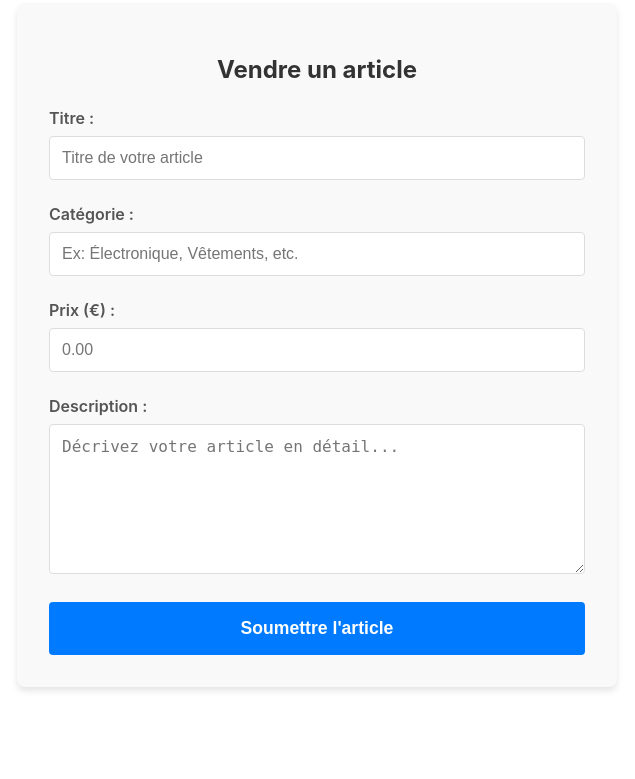
Test: SellForm › should show error when fields are missing
Step 1. Type "Valid Title" into the field labelled "Titre :" → (317,158), box [49,136,585,180]
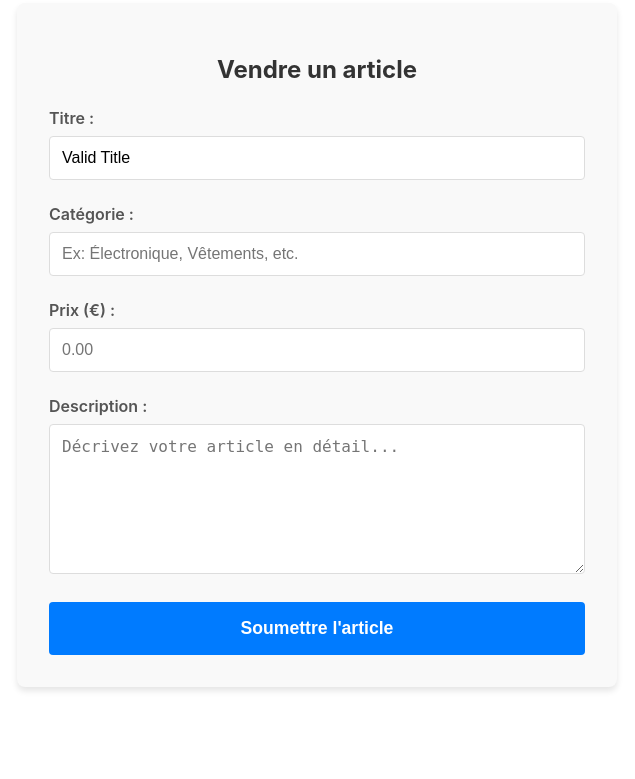
Step 2. Submit the form named "Soumettre l'article"
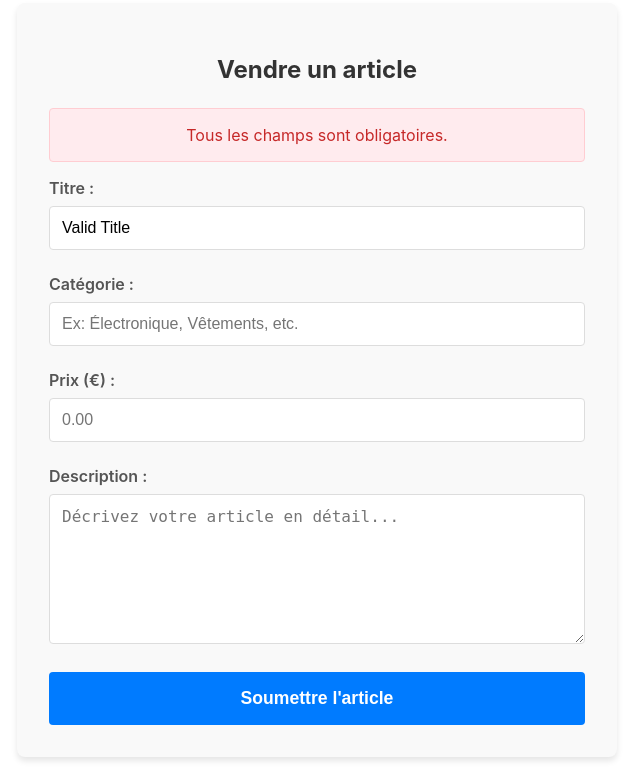
Result: the text "Tous les champs sont obligatoires." is shown at [49,108,585,162]
